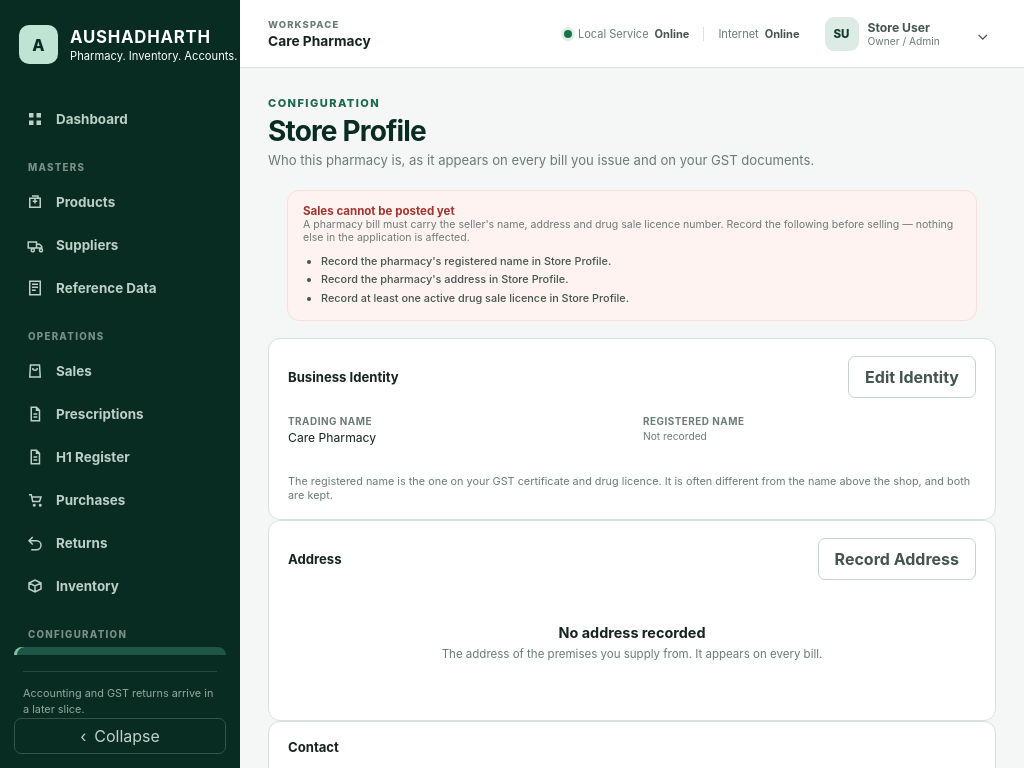
Test: Store legal profile › says plainly that the address State is not reconciled with the GSTIN
Click the button "Record Address": x=897, y=560 x1=818 y1=538 x2=976 y2=580
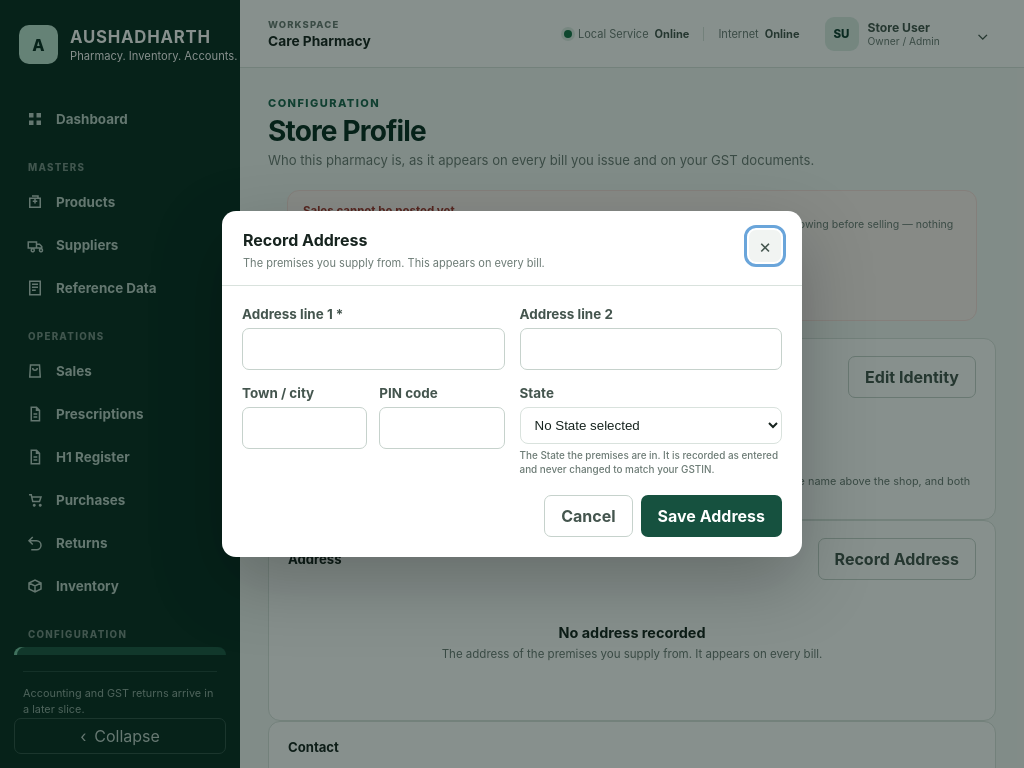
Now the text "never changed to match your GSTIN" is shown, box x1=520 y1=449 x2=778 y2=474
